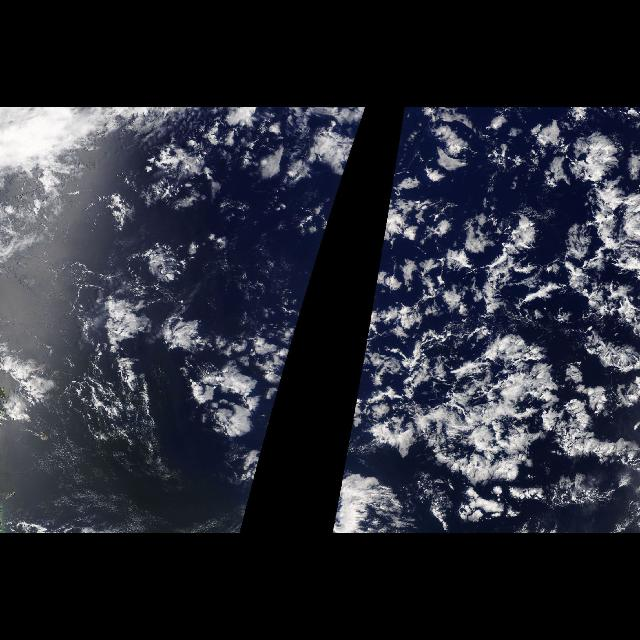Flower: (90, 125, 360, 447), (346, 125, 512, 447)
